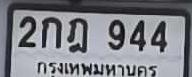2: (17, 15, 34, 46)
4: (129, 18, 145, 49), (150, 20, 166, 51)
9: (107, 18, 124, 48)
A01: (41, 16, 61, 48)
A14: (66, 16, 87, 51)
BKK: (34, 58, 160, 77)
